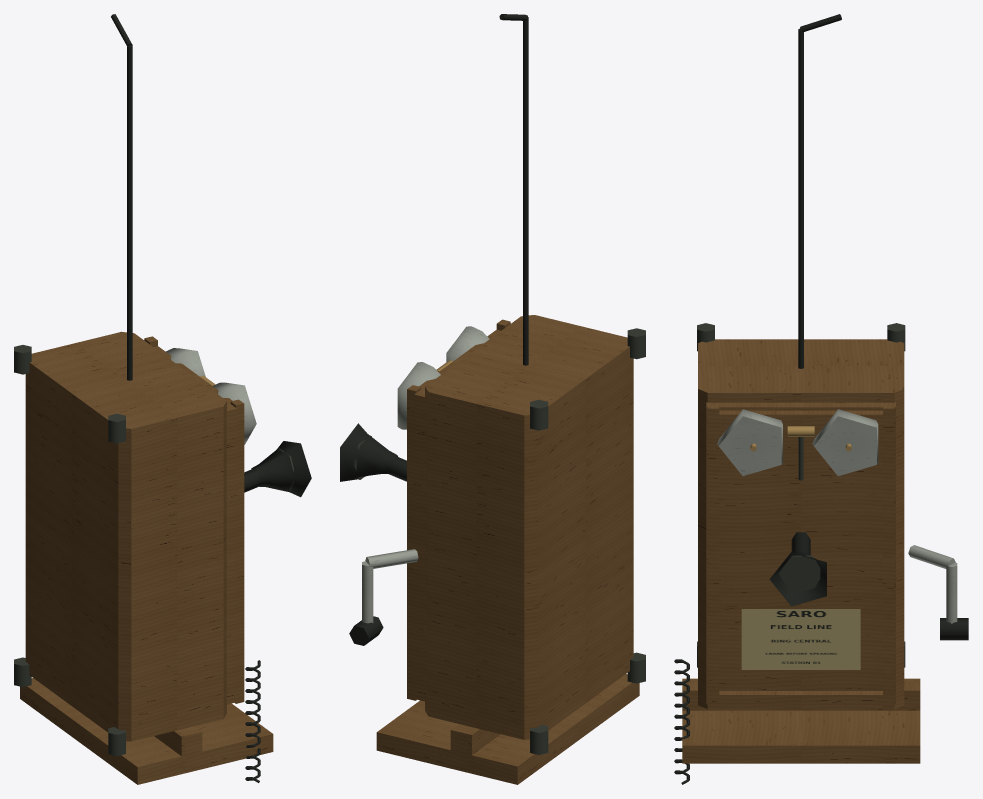
The model's file is SM_FieldKit_FieldPhone_LOD2.glb.
3 views of the same model, side by side, from view 1: azimuth 30°, elevation 25°; view 2: azimuth 150°, elevation 25°; view 3: azimuth 270°, elevation 25° (orthographic). The views are drawn at different scales.
Parts seen in each view (by area): view 1: SM_FieldKit_FieldPhone_LOD2; view 2: SM_FieldKit_FieldPhone_LOD2; view 3: SM_FieldKit_FieldPhone_LOD2.
Part boxes in pixels (bbox=[...]): SM_FieldKit_FieldPhone_LOD2: bbox=[14, 14, 311, 784]; SM_FieldKit_FieldPhone_LOD2: bbox=[340, 14, 645, 784]; SM_FieldKit_FieldPhone_LOD2: bbox=[674, 14, 968, 784].
Bounding box in the file's own units: 0.346 × 1.03 × 0.3708.
6 materials, 3 textured.
